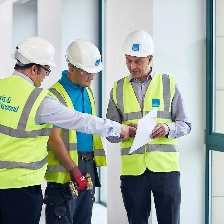helmet: (11, 35, 60, 72), (62, 40, 105, 79), (119, 29, 154, 61)
person: (108, 25, 191, 224), (0, 34, 61, 224), (47, 40, 109, 222)
vest: (113, 76, 188, 174), (49, 83, 110, 186), (2, 79, 50, 193)
